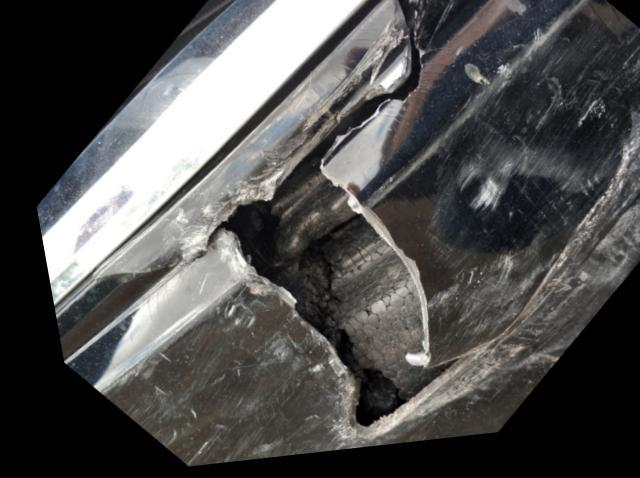crack: (84, 0, 448, 434)
rub: (415, 33, 640, 374), (110, 277, 346, 469)
